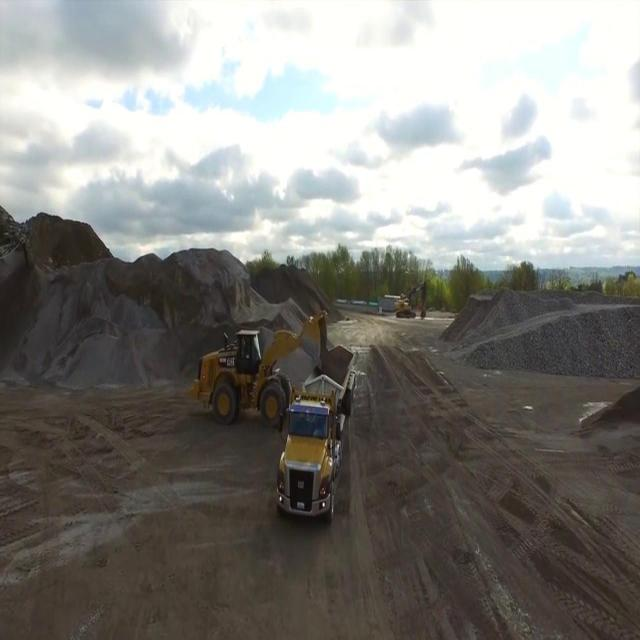Dump Truck: (274, 340, 358, 527)
Excavator: (394, 280, 427, 320)
Loader: (187, 310, 327, 430)
